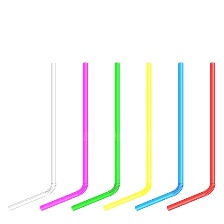drinking_straw: (132, 59, 189, 214), (163, 58, 220, 213), (5, 60, 62, 214), (67, 59, 123, 213)
